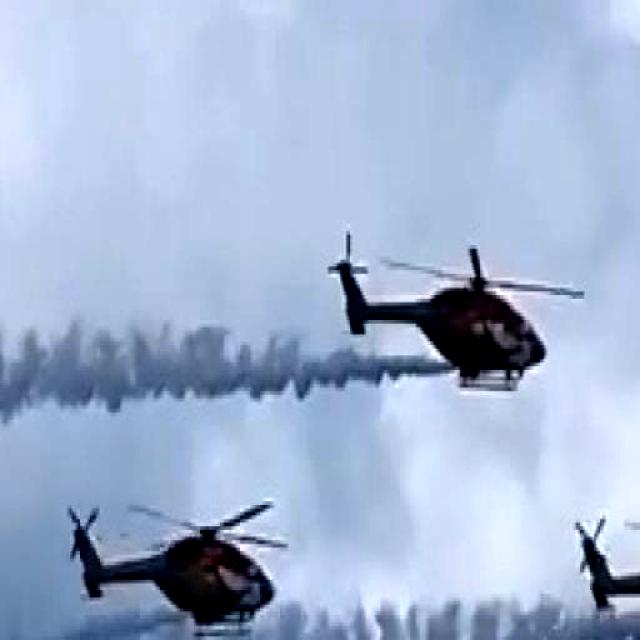drone: (325, 214, 589, 410), (62, 492, 300, 640)
